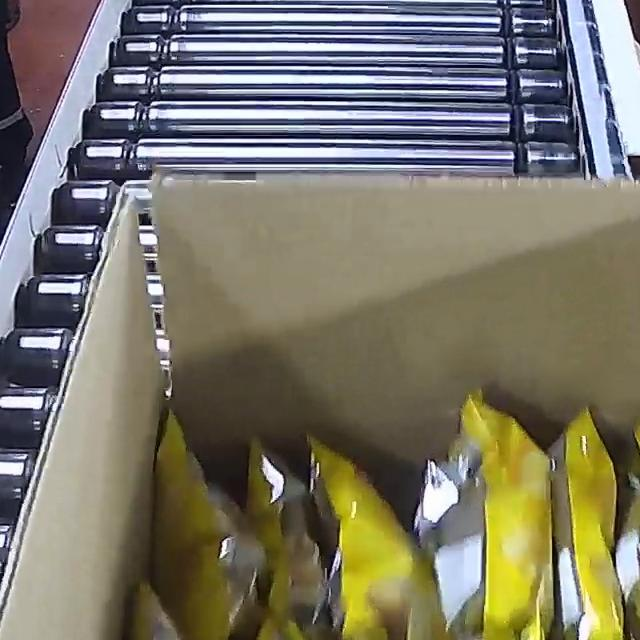salted: (152, 377, 640, 640)
